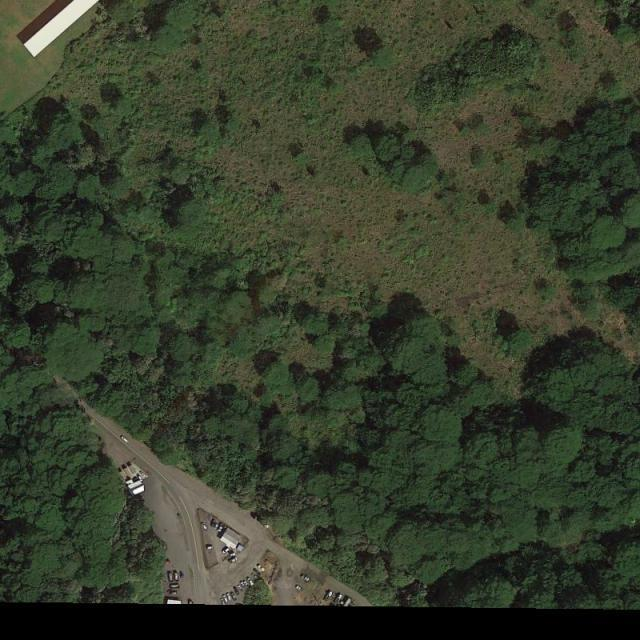vehicle: (233, 586, 241, 595), (324, 592, 333, 600), (296, 585, 304, 593), (200, 522, 208, 530), (230, 591, 237, 600), (302, 574, 309, 582), (257, 565, 265, 572), (247, 578, 255, 585), (222, 594, 229, 602), (229, 557, 237, 564), (334, 594, 342, 601), (121, 435, 127, 444), (211, 518, 216, 528), (254, 569, 261, 576), (251, 574, 258, 581), (243, 580, 250, 587), (226, 593, 232, 601), (241, 582, 247, 590), (218, 525, 224, 533), (222, 548, 229, 554), (214, 522, 219, 530), (238, 585, 243, 592), (229, 551, 235, 556), (206, 546, 213, 550)
